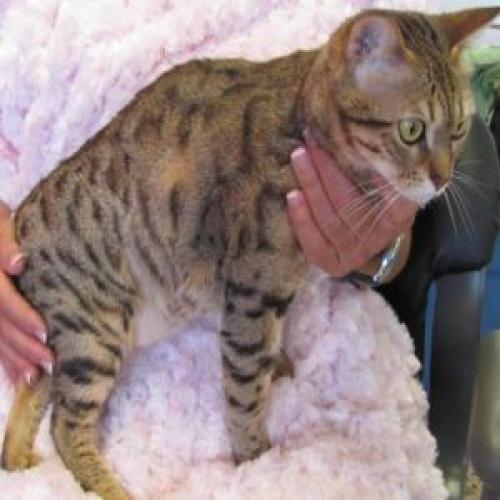cat-face: (330, 5, 492, 208)
